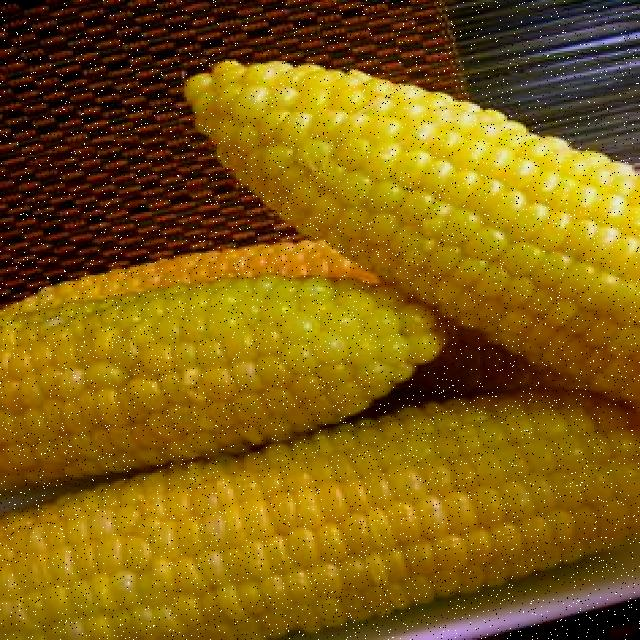Corn: (124, 7, 640, 386), (16, 282, 400, 441)
